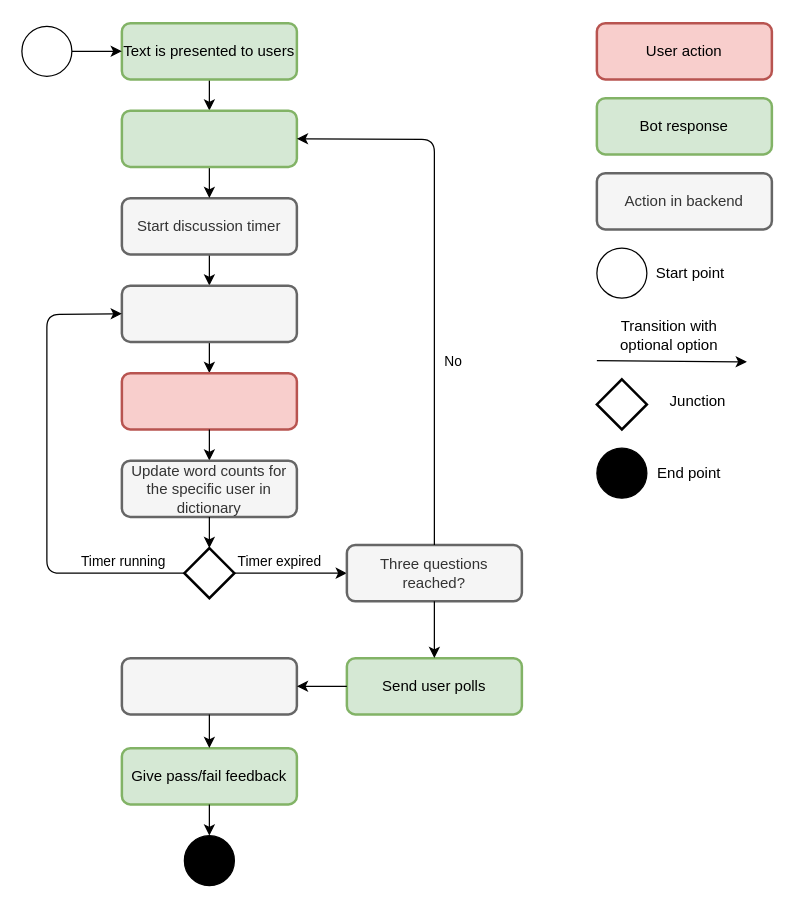
Some shapes in this 795 by 908 pixel diagram are drawn without their labels. The centre of each missing label's shape, as x and y in pixels:
"Enter handle_discussion state" goes at [209,313].
"Evaluate completion criteria" goes at [209,685].
"Text-related question is presented" goes at [209,138].
"User sends a message" goes at [209,400].
